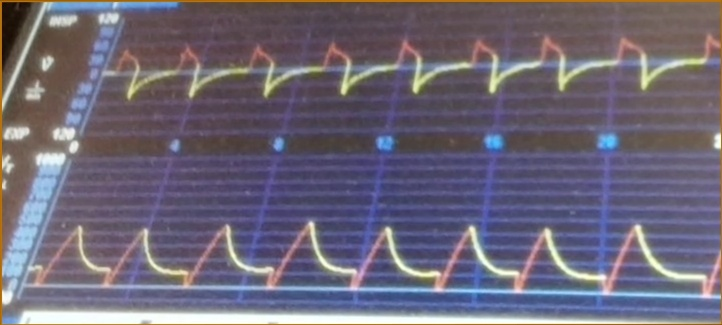Flow: (114, 20, 722, 123)
Leakage Volume: (31, 208, 722, 309)
